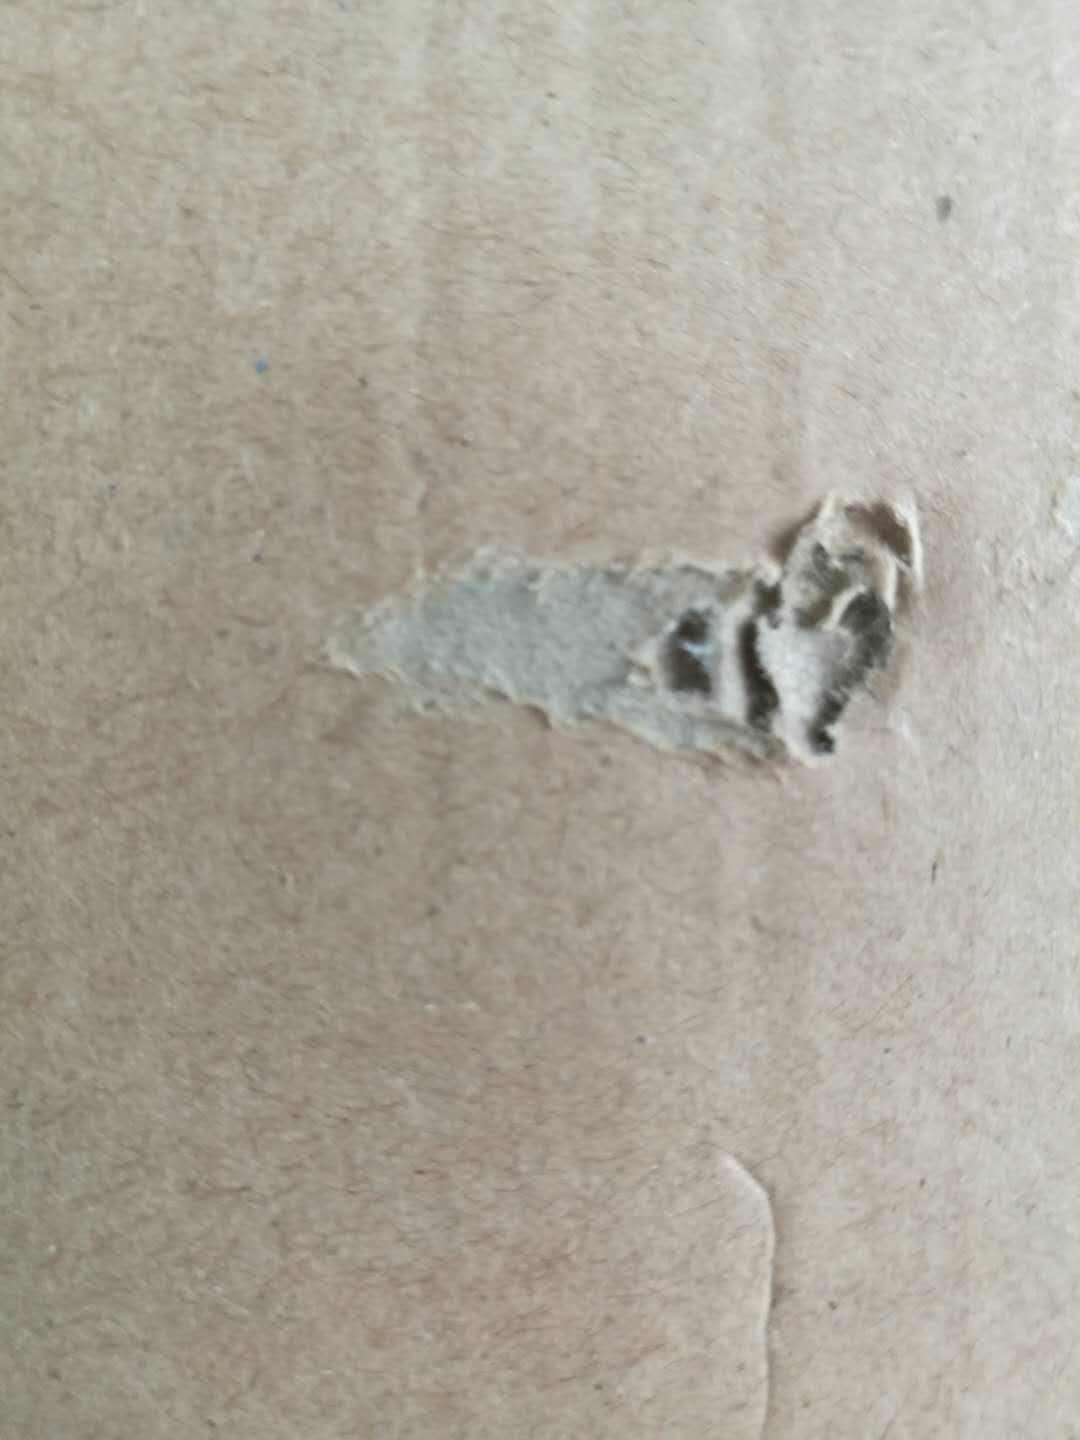defect: (254, 421, 997, 821), (665, 1115, 829, 1440)
